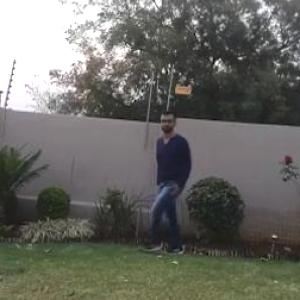follow: (148, 106, 204, 262)
